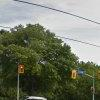Tree: (6, 16, 88, 82)
